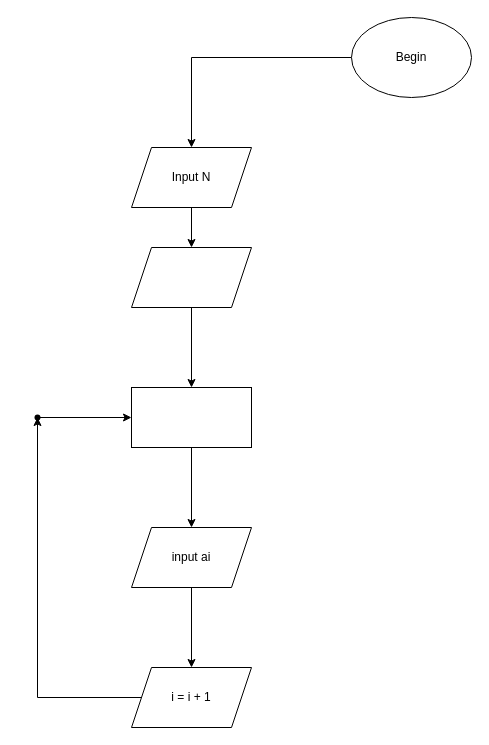
The diagram is 489 pixels wide and 745 high, and some of its shapes have lost their labels. The box of each missing label's shape, as (x1, y1, x2, y2) in pixels:
Input i = 1: (130, 246, 252, 308)
while i <= n: (130, 386, 252, 448)
